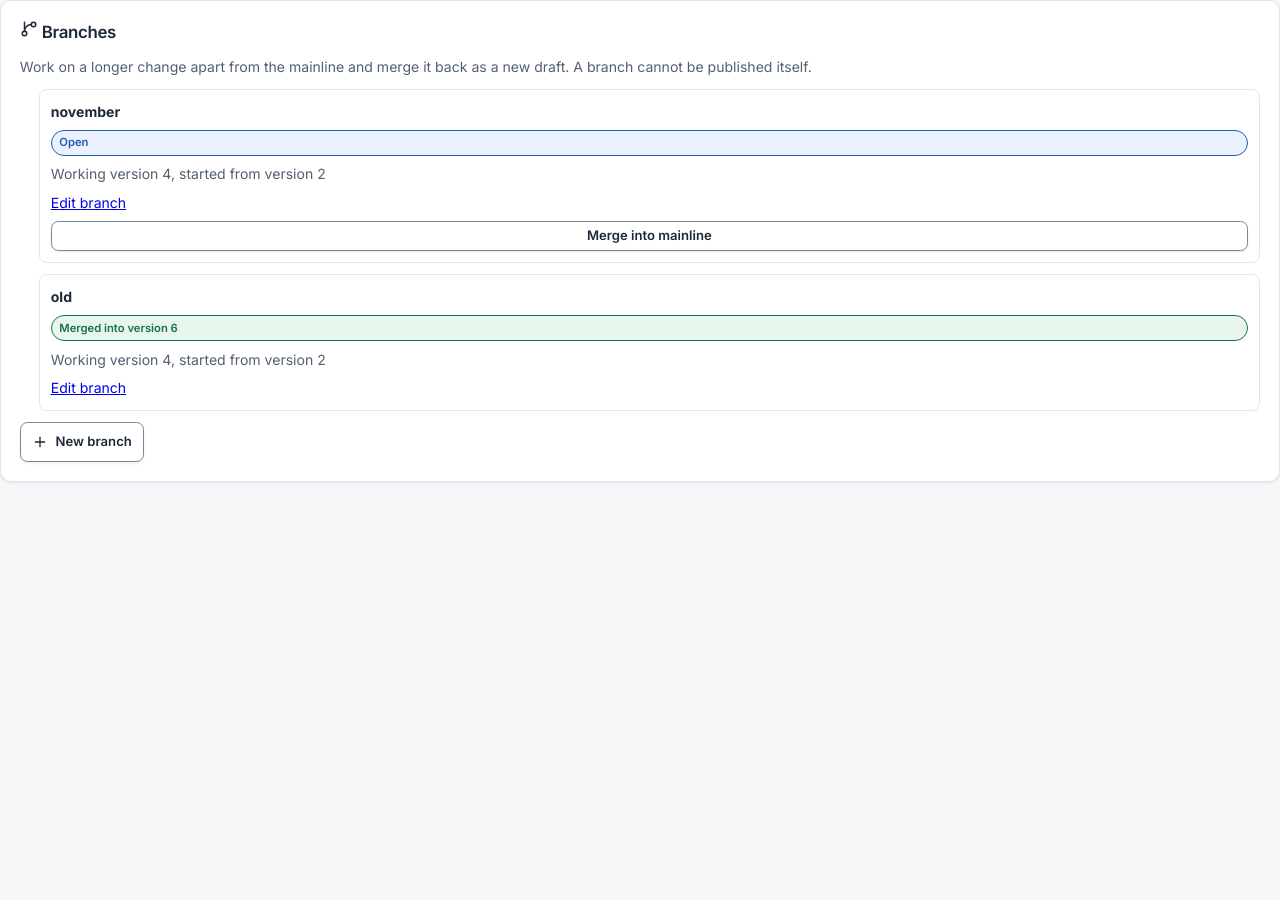
Test case: lists branches and creates one from a chosen mainline version
Expected: the text "november" is shown, [51, 103, 120, 120]
Expected: the text "Open" is shown, [51, 130, 1248, 156]
Click the button "New branch" at (82, 442), box [20, 422, 144, 462]
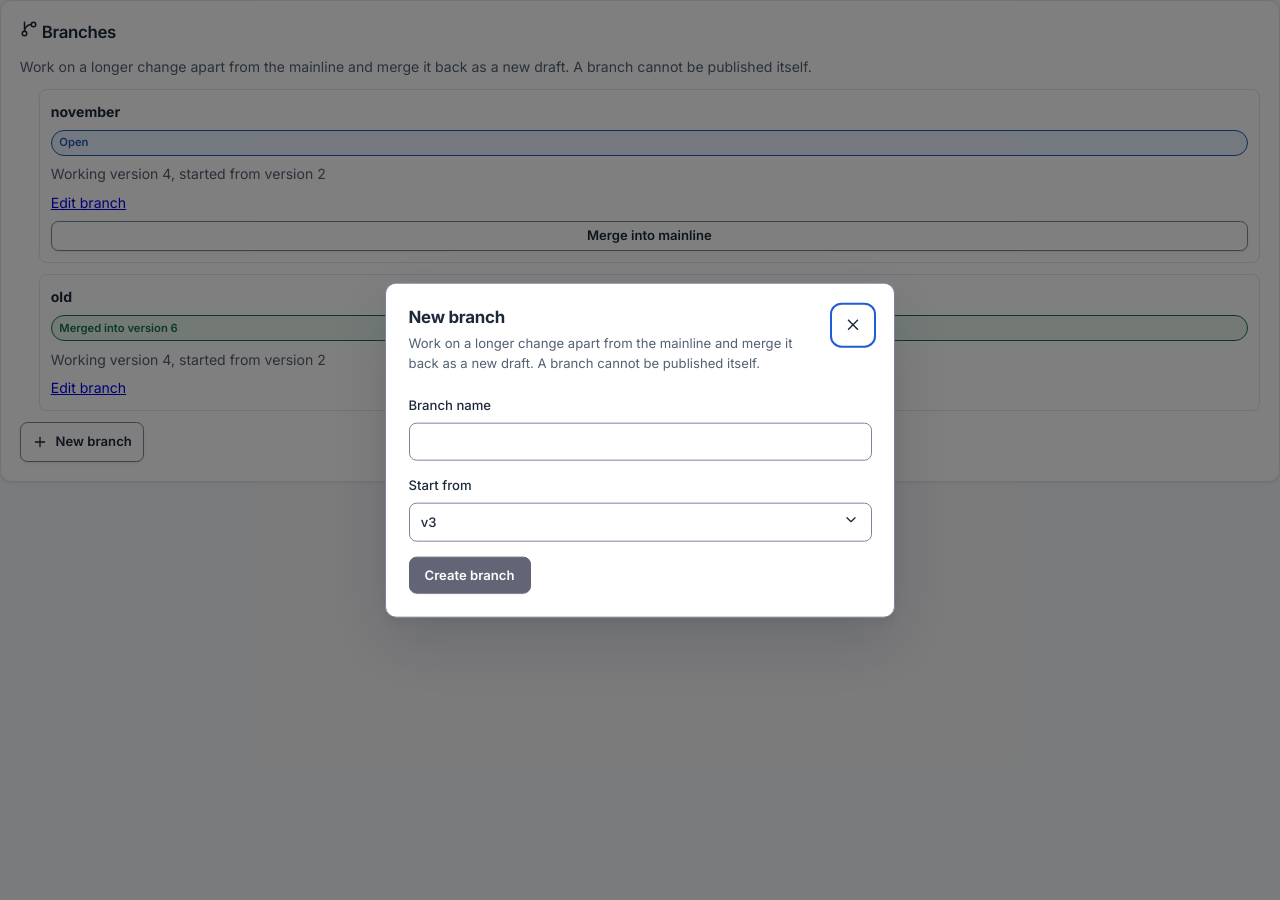
Now the button "Create branch" is disabled, box [408, 556, 530, 594]
Type "Not Valid" into the field labelled "Branch name" at (640, 442), box [408, 423, 872, 460]
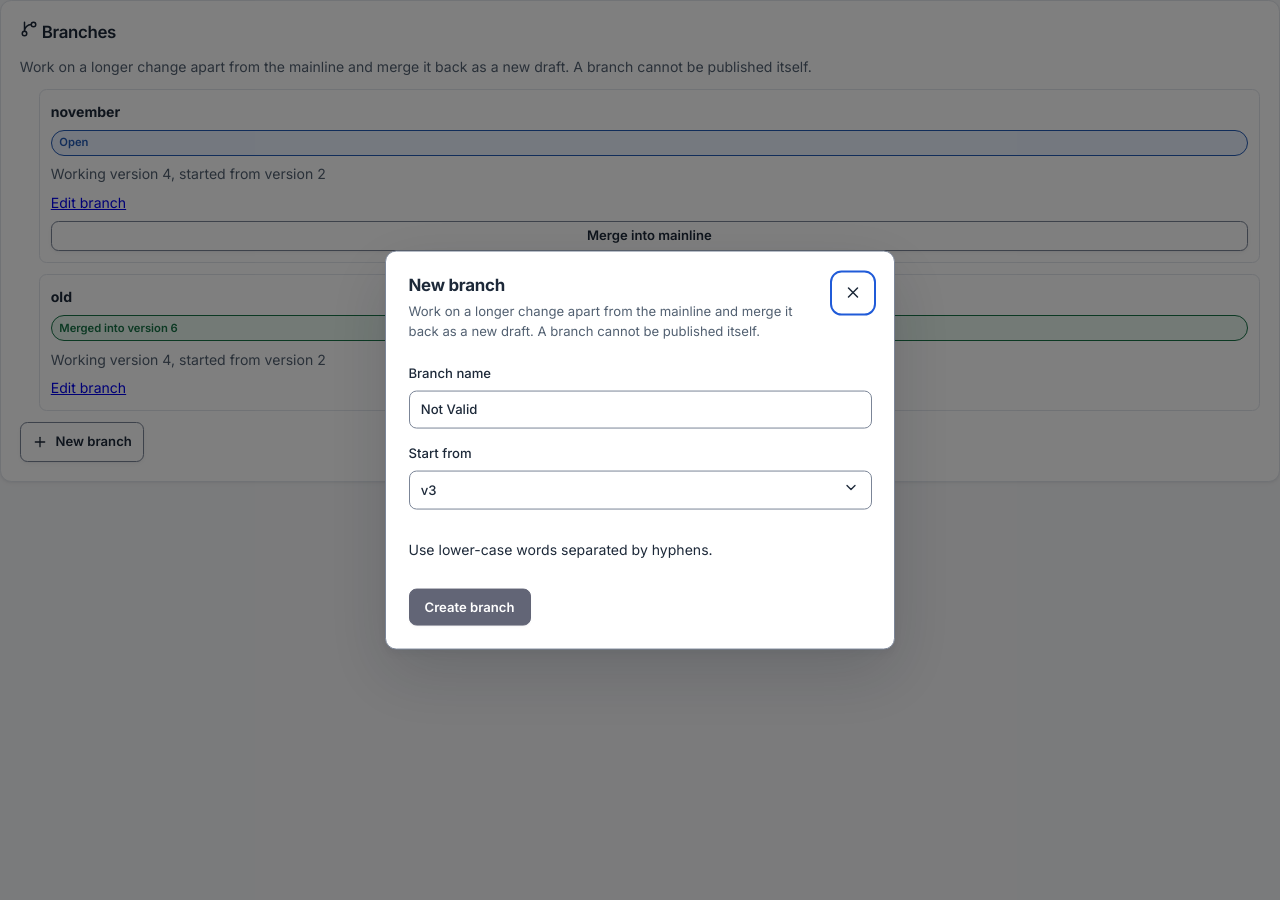
Now the text "Use lower-case words separated by hyphens." is shown, box [408, 540, 713, 557]
Replace the text in the field labelled "Branch name" with "december" at (640, 410), box [408, 391, 872, 428]
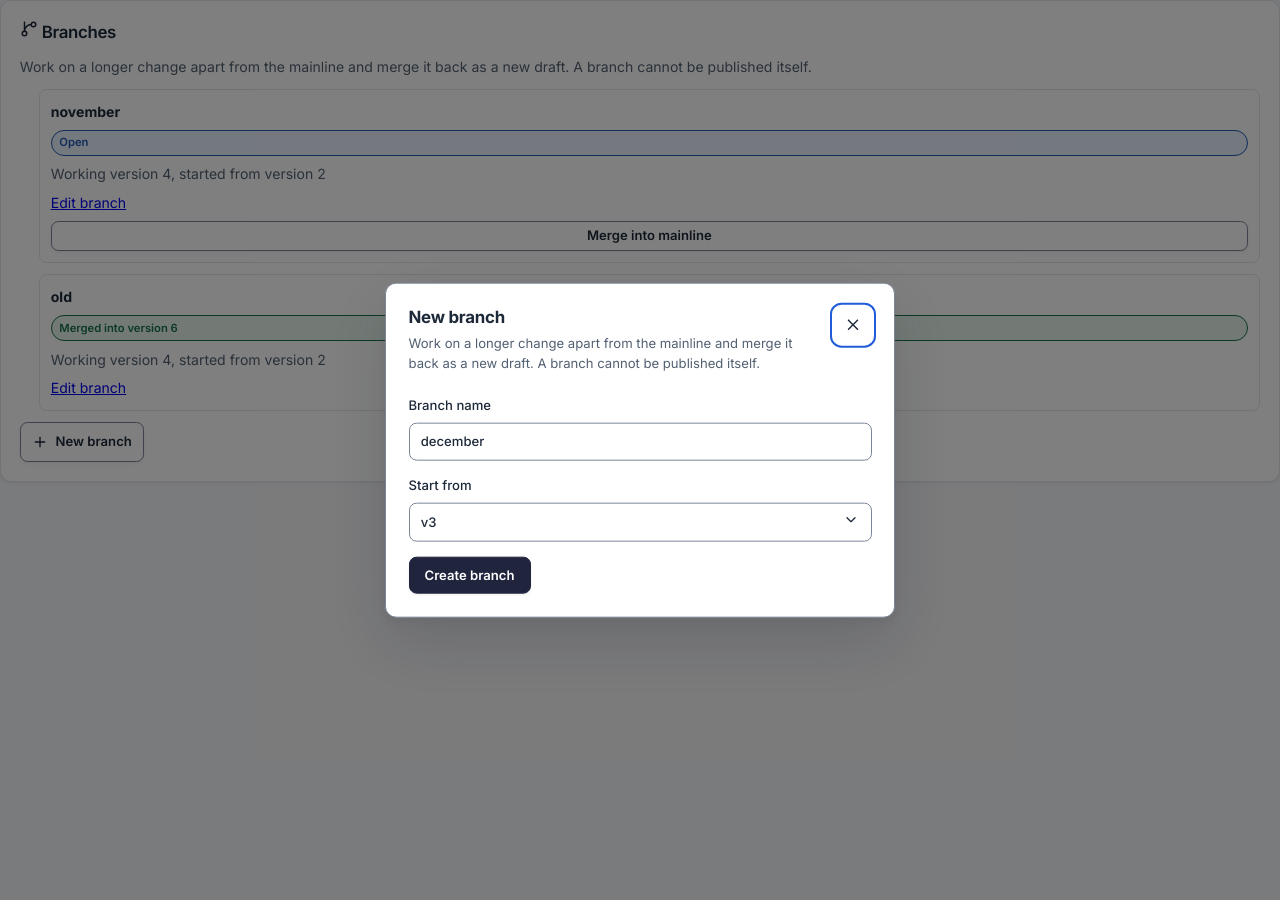
Click the button "Create branch" at (470, 575), box [408, 556, 530, 594]
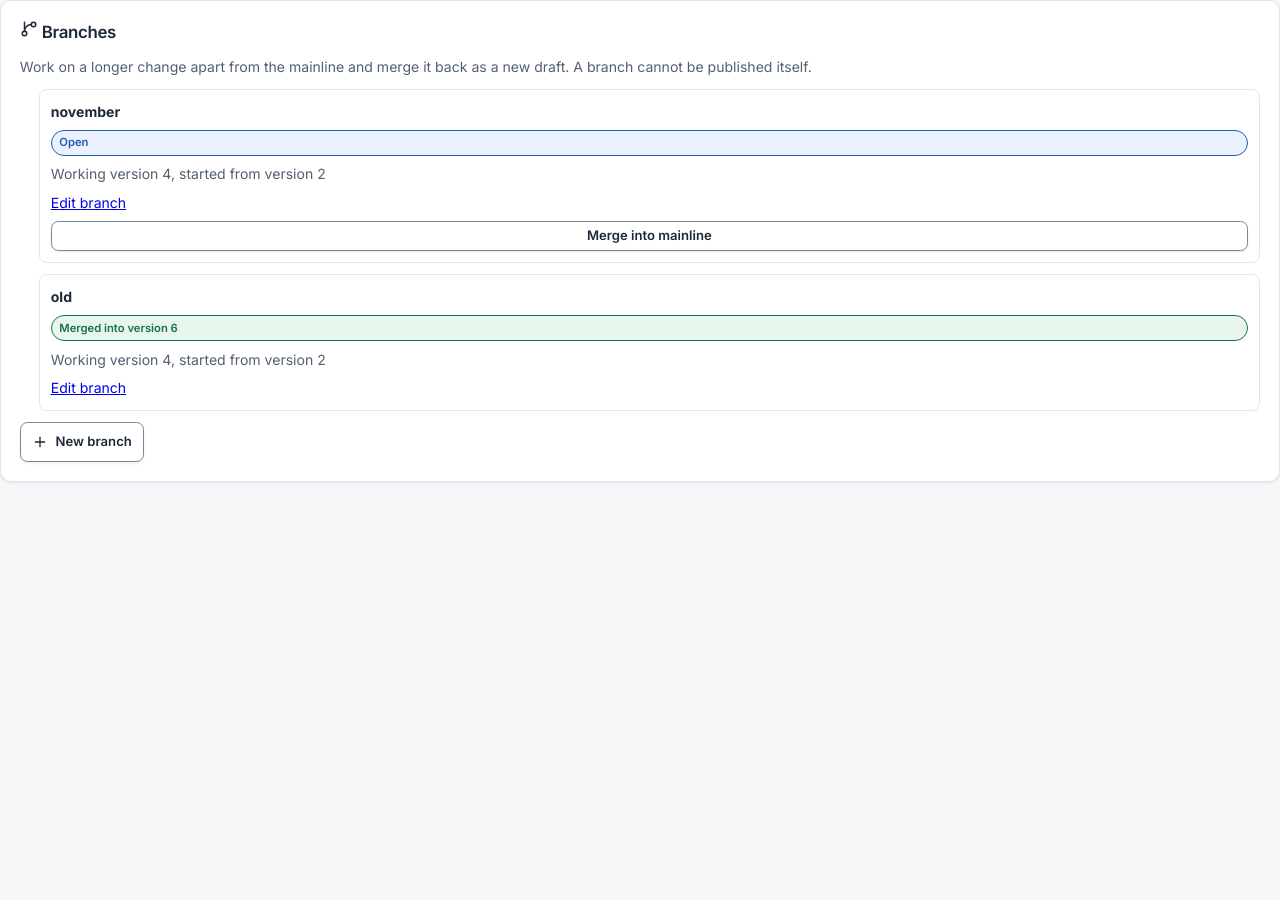
Now the dialog is gone
